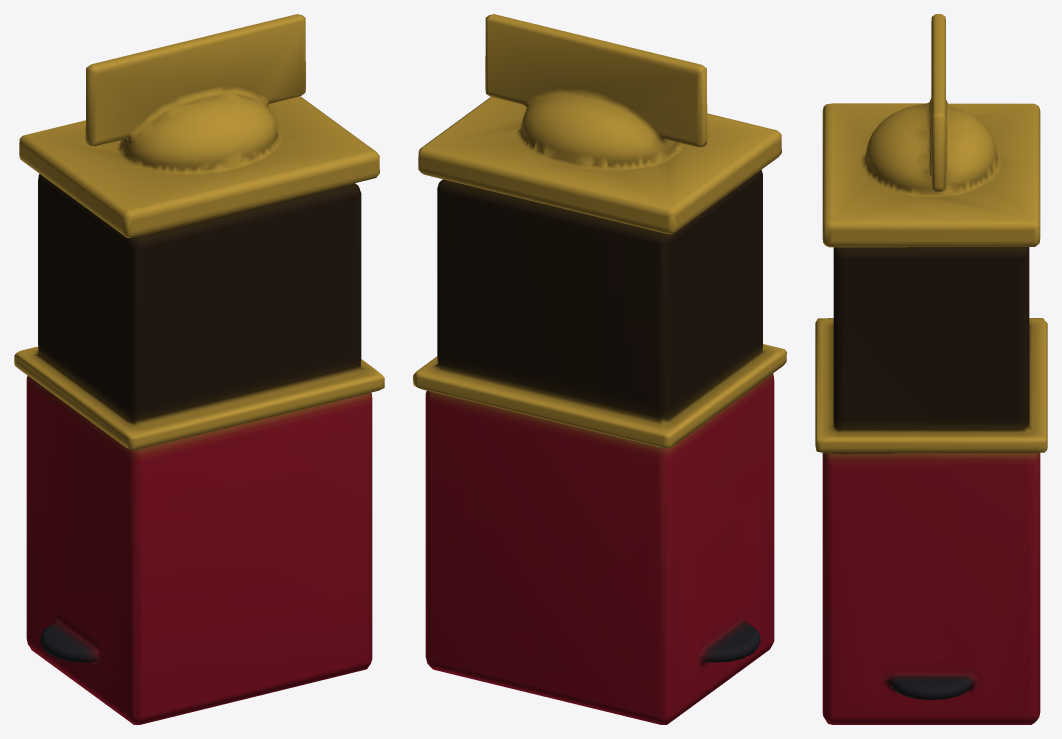
File: lumiere-popcorn-machine.glb
The picture shows the model from 3 angles, left to right: view 1: azimuth 30°, elevation 25°; view 2: azimuth 150°, elevation 25°; view 3: azimuth 270°, elevation 25°; orthographic projection. The views are drawn at different scales.
Parts seen in each view (by area): view 1: lumiere-popcorn-machine_LOD0; view 2: lumiere-popcorn-machine_LOD0; view 3: lumiere-popcorn-machine_LOD0.
Boxes of the visible parts, x1,y1,x2,y2 form: lumiere-popcorn-machine_LOD0: (14, 14, 384, 724); lumiere-popcorn-machine_LOD0: (413, 14, 786, 724); lumiere-popcorn-machine_LOD0: (815, 14, 1047, 724).
Size of what is drawn, in the model's own units: 0.9594 by 1.84 by 0.64.
